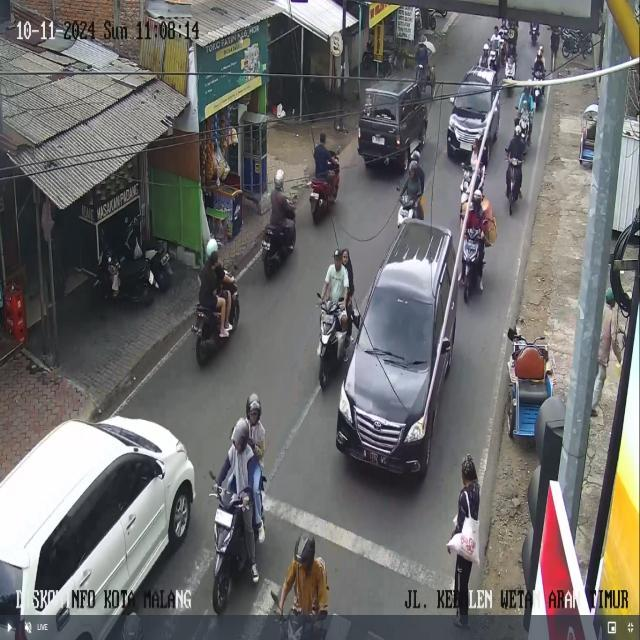Helmet: (294, 533, 314, 565), (231, 418, 249, 450), (122, 612, 142, 639), (461, 454, 476, 479), (246, 393, 260, 419), (274, 169, 285, 191), (205, 238, 217, 258), (605, 287, 614, 305), (408, 160, 417, 171), (473, 189, 482, 200), (411, 149, 419, 161), (460, 191, 467, 204), (333, 249, 341, 259), (515, 125, 521, 135), (536, 50, 541, 59), (538, 45, 543, 54), (483, 43, 488, 51)
Number Plate: (215, 509, 232, 528), (364, 449, 383, 464), (161, 253, 169, 265), (372, 136, 384, 144), (460, 142, 471, 150), (262, 241, 269, 250), (310, 192, 318, 198)
Rearview Mirror: (156, 460, 165, 478), (442, 337, 450, 352), (507, 327, 516, 340), (208, 470, 215, 480), (449, 96, 455, 104), (316, 292, 322, 299), (338, 297, 344, 302), (396, 185, 400, 190)
